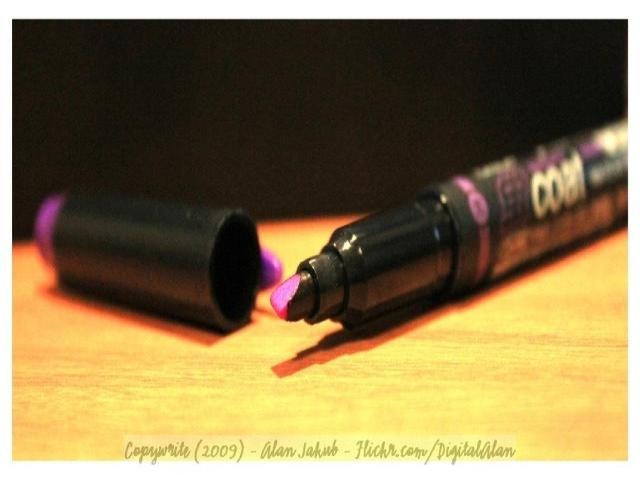PEN: (16, 134, 639, 354)
